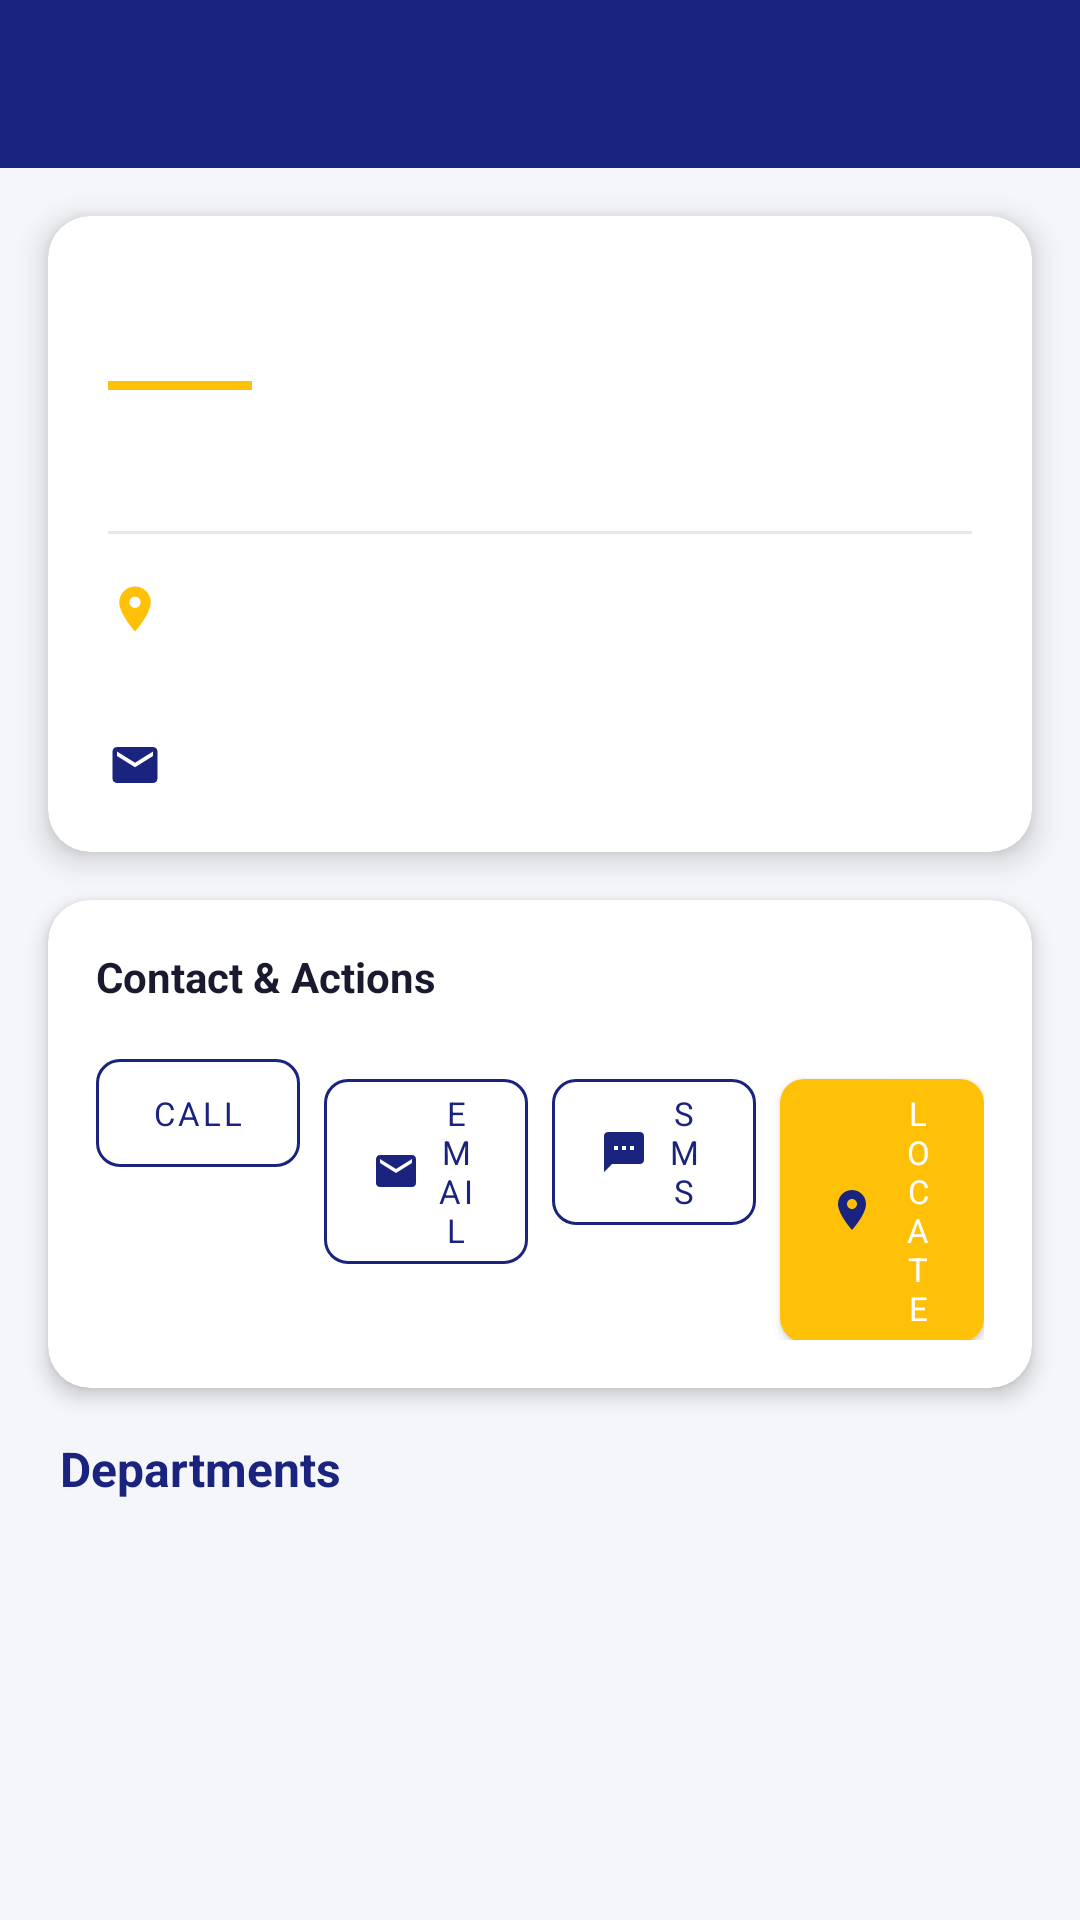

Icon bounding boxes for this 1080 × 1920 phone screenshot, format (x1, y1, x2, y2):
email: (112, 747, 158, 783)
location: (119, 586, 151, 631)
